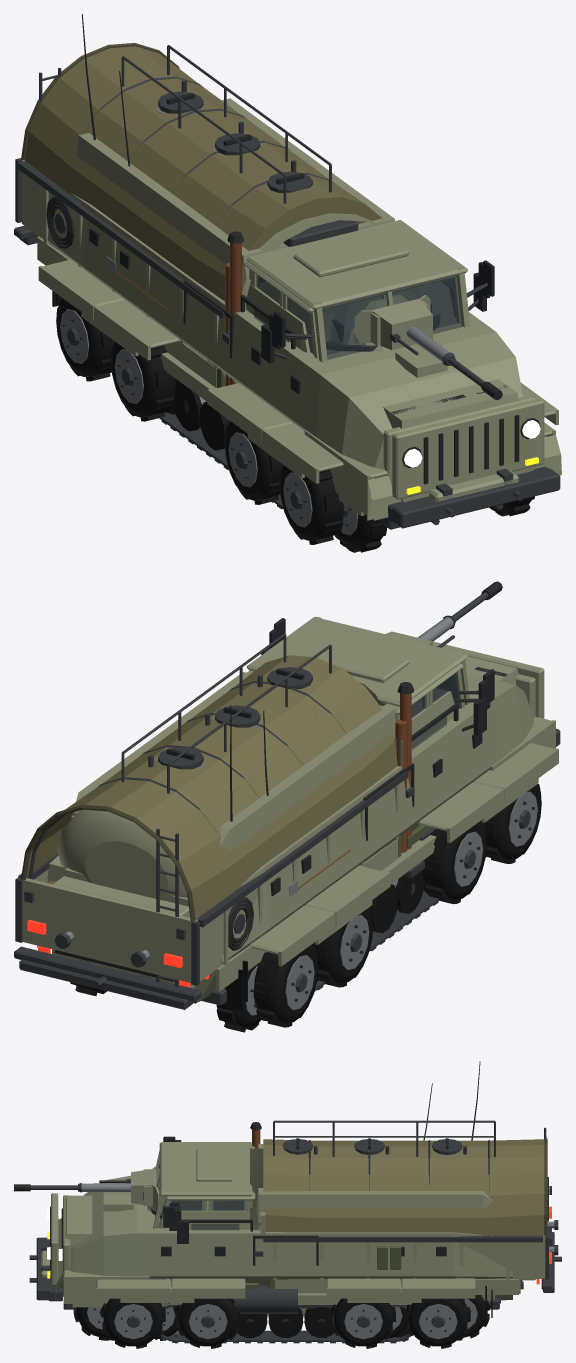
File: bveh.glb
The picture shows the model from 3 angles, top to bottom: view 1: azimuth 30°, elevation 25°; view 2: azimuth 150°, elevation 25°; view 3: azimuth 270°, elevation 25°; orthographic projection. The views are drawn at different scales.
Parts seen in each view (by area): view 1: supply_truck_body, apc_body, fuel_truck_body, ambulance_body, apc_wheel_F1R, apc_wheel_R1R, apc_wheel_R2R, apc_wheel_F2R, apc_gun_mantlet, apc_turret, supply_truck_wheel_F1R, apc_gun (+4 smaller); view 2: supply_truck_body, apc_body, fuel_truck_body, ambulance_body, apc_wheel_R2R, apc_wheel_F2R, apc_wheel_R1R, apc_wheel_F1R, light_tank_body, fuel_truck_wheel_R2R, apc_gun, light_tank_track_R (+2 smaller); view 3: supply_truck_body, apc_body, ambulance_body, fuel_truck_body, apc_wheel_R2L, apc_wheel_F2L, apc_wheel_F1L, apc_wheel_R1L, light_tank_track_L, apc_gun, apc_gun_mantlet, light_tank_wheel_L2 (+8 smaller).
Boxes of the visible parts, box(x1,y1,x2,y2) form: supply_truck_body: box(14, 43, 561, 528); apc_body: box(38, 71, 558, 502); fuel_truck_body: box(20, 45, 547, 523); ambulance_body: box(73, 14, 503, 529); apc_wheel_F1R: box(279, 465, 343, 544); apc_wheel_R1R: box(111, 341, 175, 421); apc_wheel_R2R: box(56, 298, 114, 381); apc_wheel_F2R: box(224, 421, 283, 504); apc_gun_mantlet: box(354, 295, 432, 349); apc_turret: box(322, 287, 439, 351); supply_truck_wheel_F1R: box(339, 504, 387, 552); apc_gun: box(390, 326, 502, 399); supply_truck_body: box(14, 616, 560, 1002); apc_body: box(47, 664, 558, 1003); fuel_truck_body: box(19, 629, 535, 1010); ambulance_body: box(71, 647, 538, 1005); apc_wheel_R2R: box(253, 944, 318, 1027); apc_wheel_F2R: box(422, 821, 486, 904); apc_wheel_R1R: box(312, 907, 373, 987); apc_wheel_F1R: box(481, 784, 541, 863); light_tank_body: box(382, 825, 436, 883); fuel_truck_wheel_R2R: box(216, 964, 260, 1032); apc_gun: box(418, 581, 502, 647); light_tank_track_R: box(314, 858, 438, 993); supply_truck_body: box(29, 1122, 561, 1321); apc_body: box(41, 1083, 512, 1303); ambulance_body: box(63, 1061, 499, 1309); fuel_truck_body: box(41, 1120, 558, 1317); apc_wheel_R2L: box(406, 1298, 470, 1348); apc_wheel_F2L: box(176, 1298, 240, 1348); apc_wheel_F1L: box(101, 1298, 165, 1348); apc_wheel_R1L: box(331, 1298, 395, 1348); light_tank_track_L: box(160, 1303, 410, 1343); apc_gun: box(14, 1179, 143, 1200); apc_gun_mantlet: box(131, 1166, 159, 1209); light_tank_wheel_L2: box(304, 1307, 334, 1337).
Size of the model in its own units: 3.2 by 4.2 by 9.17.
